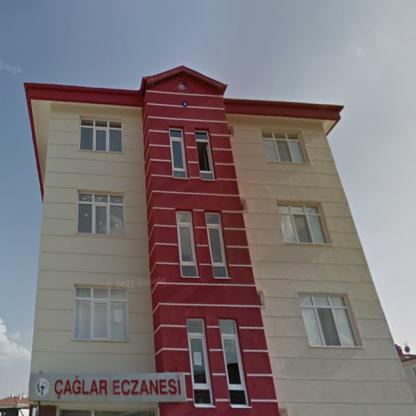window: (299, 296, 358, 346), (73, 287, 126, 340), (220, 320, 246, 405), (187, 320, 211, 405), (77, 192, 124, 235), (278, 204, 326, 242), (205, 213, 228, 278), (176, 210, 198, 276), (80, 119, 122, 151), (262, 132, 306, 162), (170, 129, 188, 178), (196, 131, 214, 178)
